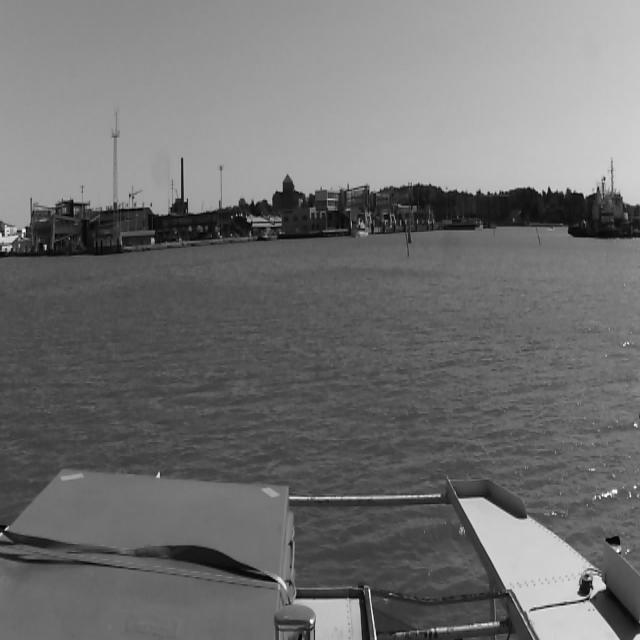buoy: (406, 233, 410, 256), (408, 224, 411, 243)
ship: (568, 156, 634, 241)
